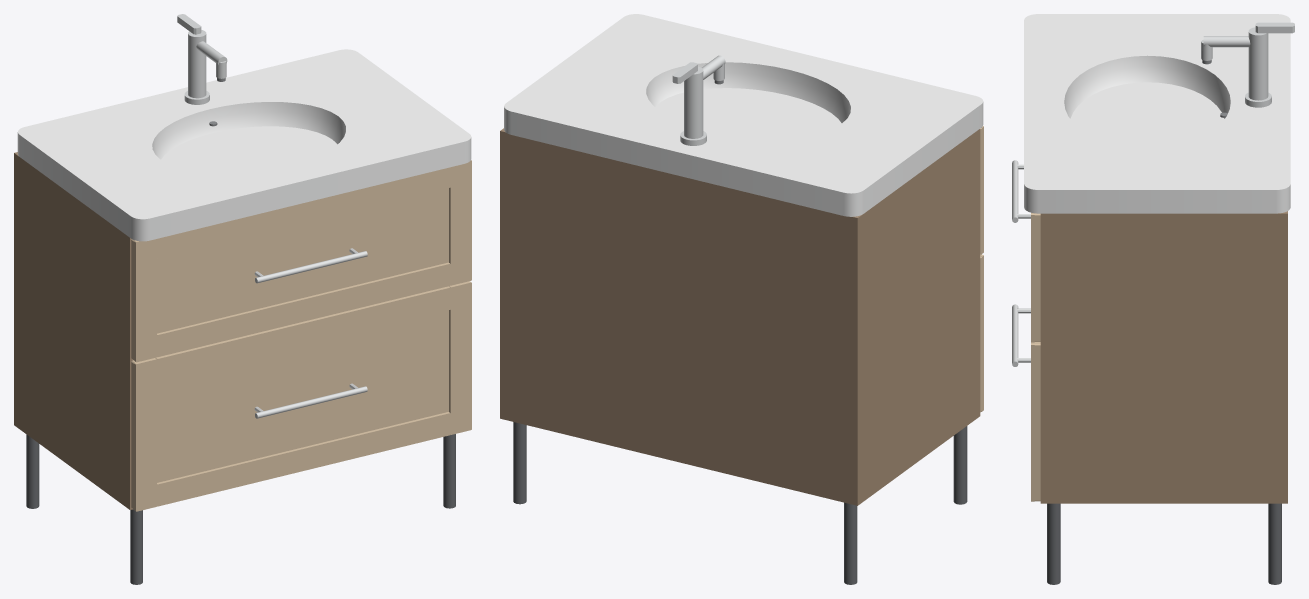
The picture shows the model from 3 angles, left to right: view 1: azimuth 30°, elevation 25°; view 2: azimuth 150°, elevation 25°; view 3: azimuth 270°, elevation 25°; orthographic projection. The views are drawn at different scales.
Visible parts, largest first — view 1: Lavabo Rộng tủ=800; Sâu tủ=500; view 2: Lavabo Rộng tủ=800; Sâu tủ=500; view 3: Lavabo Rộng tủ=800; Sâu tủ=500.
Boxes of the visible parts, left/top/right/bottom form: Lavabo Rộng tủ=800; Sâu tủ=500: left=14, top=14, right=471, bottom=584; Lavabo Rộng tủ=800; Sâu tủ=500: left=500, top=14, right=983, bottom=584; Lavabo Rộng tủ=800; Sâu tủ=500: left=1012, top=14, right=1294, bottom=584.
Bounding box in the file's own units: 0.8 × 1.01 × 0.543.
